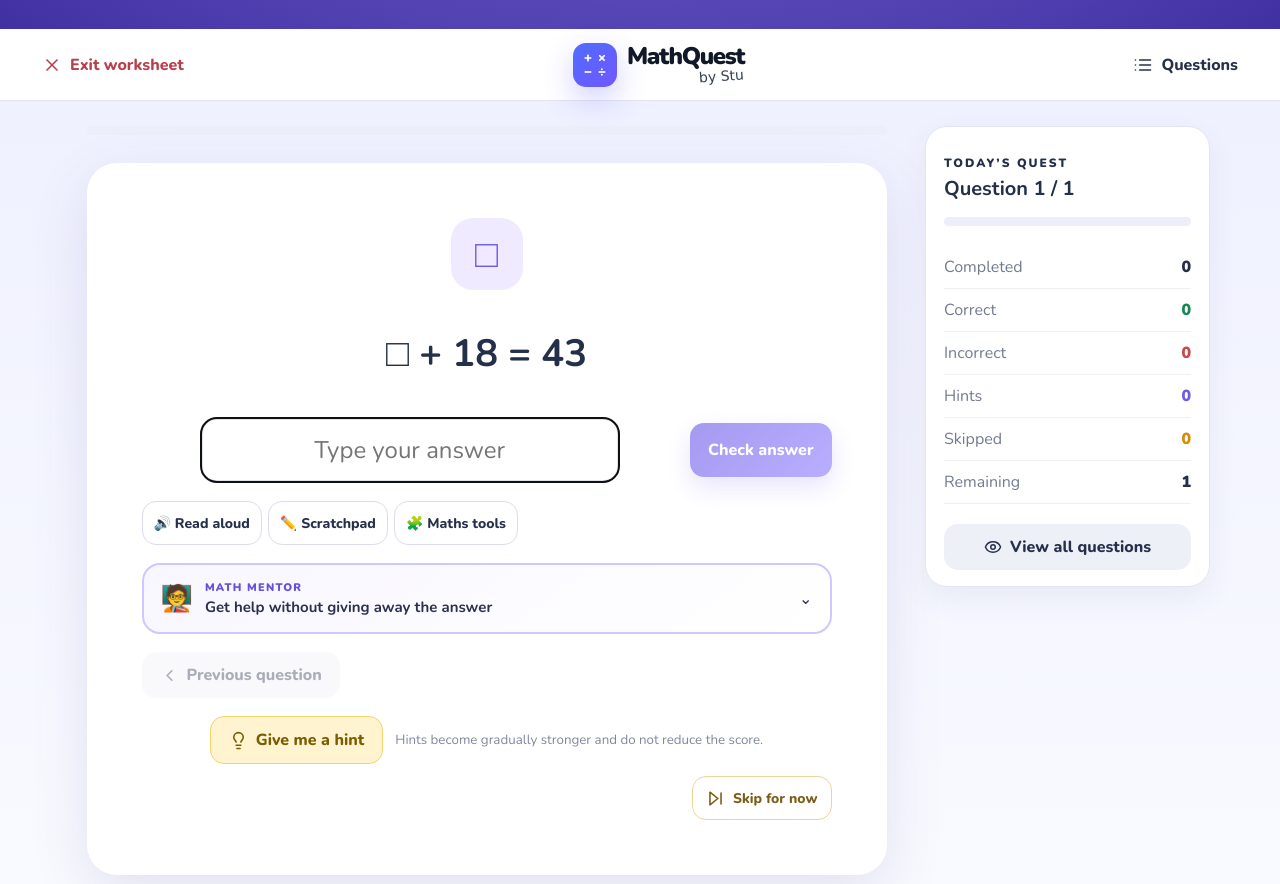
Math Mentor › is available as a collapsible, keyboard-accessible panel on every worksheet question
(page scrolled)
Click the button "🧑‍🏫 MATH MENTOR Get help without giving away the answer ⌄": click(486, 598) x1=144 y1=565 x2=830 y2=632
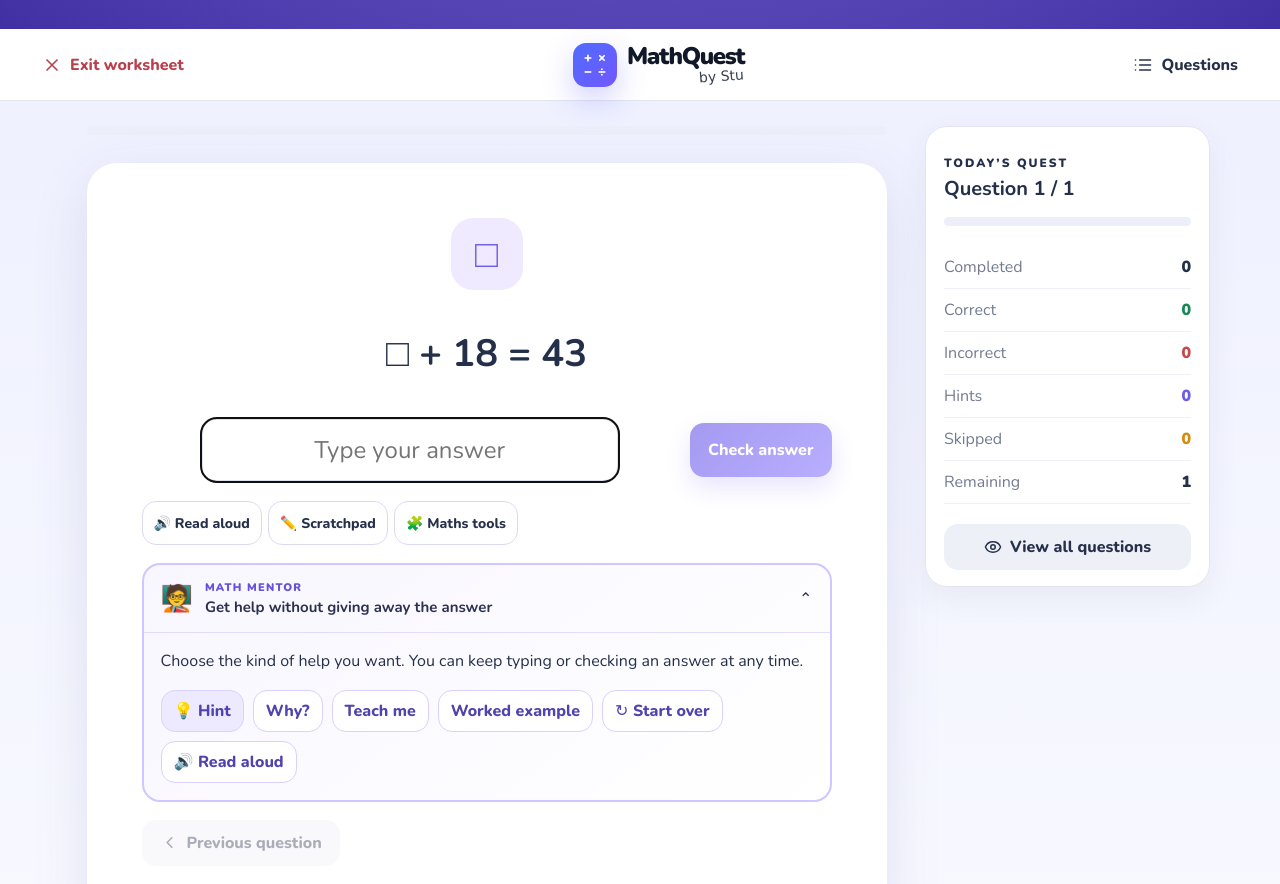
Expected: the button "🧑‍🏫 MATH MENTOR Get help without giving away the answer ⌃" is expanded, x1=144 y1=565 x2=830 y2=632
Click the button "Why?": click(288, 711) x1=253 y1=690 x2=323 y2=732
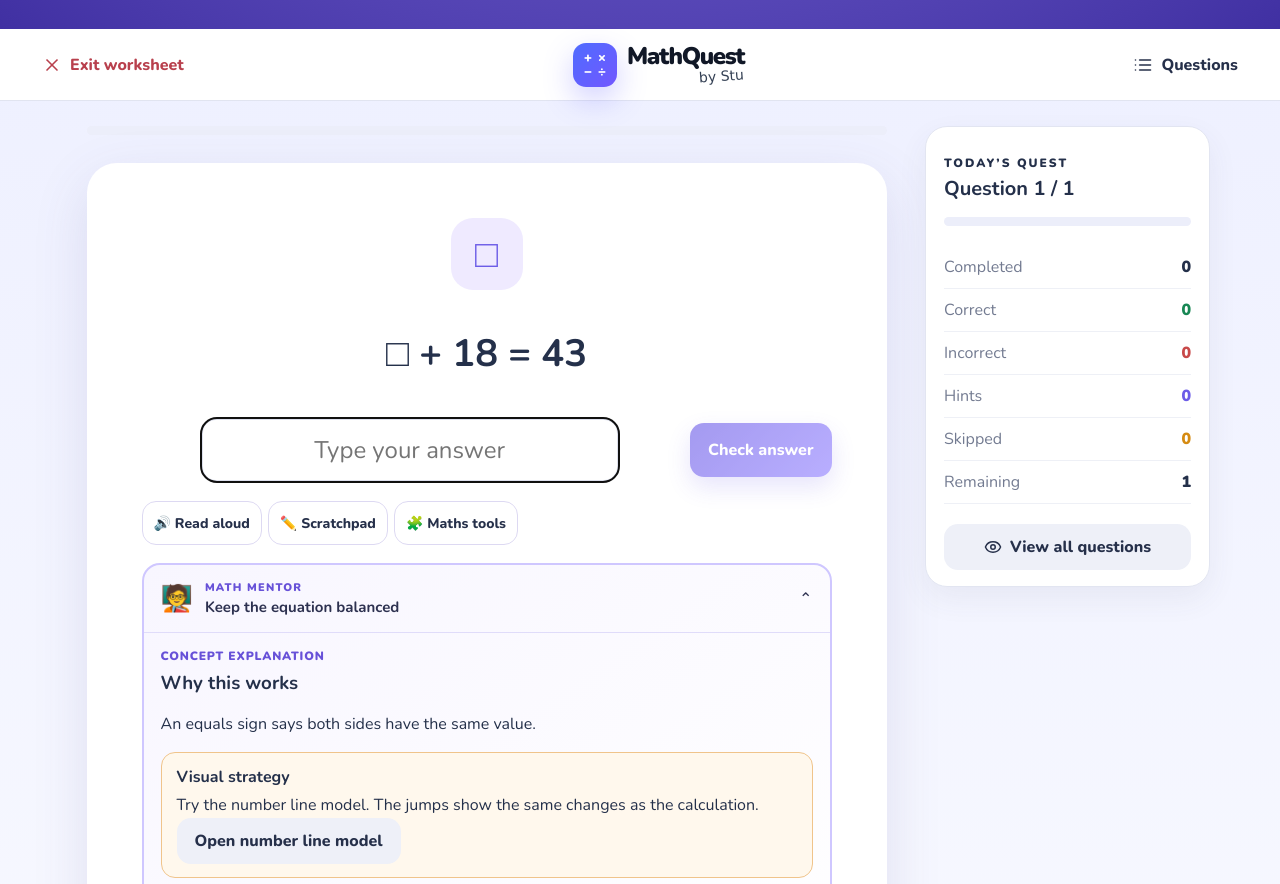
Expected: the heading "Why this works" is shown, x1=160 y1=670 x2=298 y2=696
Expected: the text "same changes as the calculation" is shown, x1=176 y1=794 x2=759 y2=816
